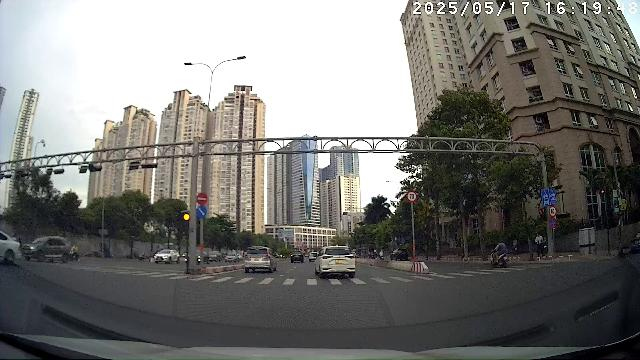127-toc-do-toi-da-60: (548, 205, 557, 217)
127-toc-do-toi-da-70: (406, 190, 417, 202)
